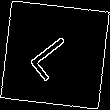L_NE: (25, 27, 85, 83)
